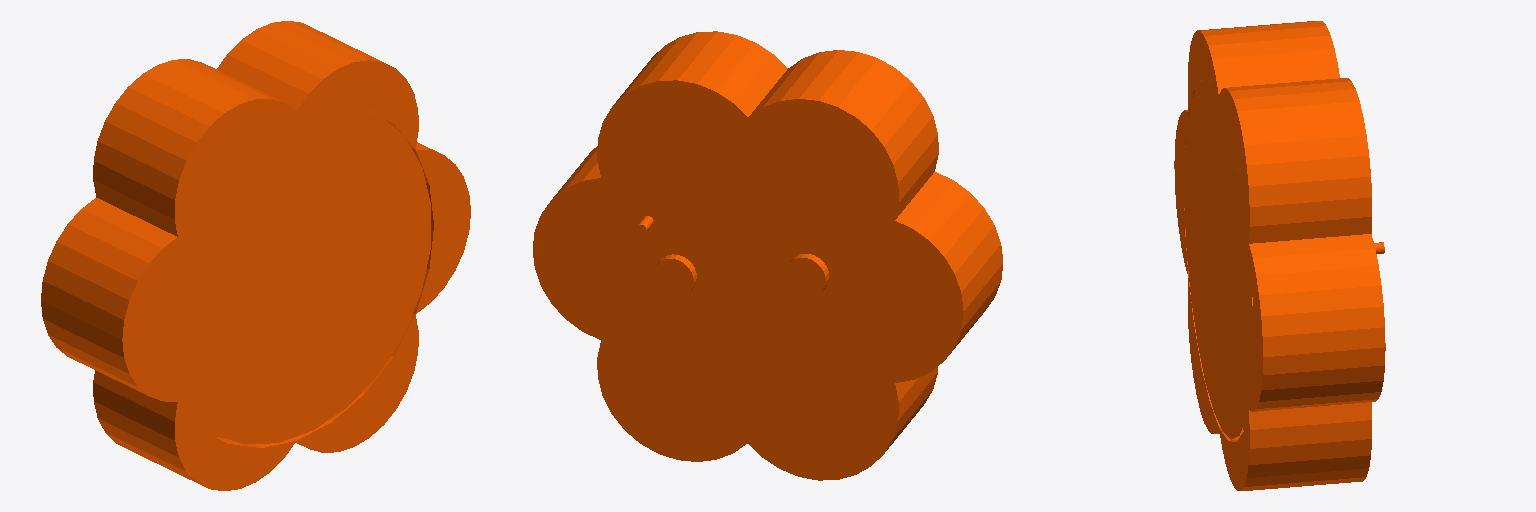
robot.urdf — WallClock_b029b05ae3761f0b582ed853b74eeebb:
<?xml version="1.0" ?>
<robot name="WallClock_b029b05ae3761f0b582ed853b74eeebb">
   <material name="obj_color">
      <color rgba="1.0 0.423529411765 0.0392156862745 1.0"/>
   </material>
   <link name="top">
      <inertial>
         <origin rpy="0.001039898293805974 0.001046716723183738 0.001859925038526667" xyz="-0.0002242387494435688 0.0008431514837960173 0.0004176603218247812"/>
         <mass value="0.7117719335017296"/>
         <inertia ixx="0.001073817160962624" ixy="-0.0001606530438322797" ixz="-1.670691766807089e-06" iyy="0.001827074035963266" iyz="-4.287309405190054e-06" izz="0.00104564885859049"/>
      </inertial>
      <visual>
         <origin rpy="0 0 0" xyz="0 0 0"/>
         <geometry>
            <mesh filename="top_watertight_tiny.stl" scale="1 1 1"/>
         </geometry>
         <material name="obj_color"/>
      </visual>
      <collision>
         <origin rpy="0 0 0" xyz="0 0 0"/>
         <geometry>
            <mesh filename="top_watertight_tiny.obj" scale="1 1 1"/>
         </geometry>
      </collision>
   </link>
   <link name="bottom">
      <inertial>
         <origin rpy="1.633333333199431e-08 1.633333333199431e-08 1.633333333362855e-08" xyz="0.3464080000000008 0.3464080000000008 0.3464080000000008"/>
         <mass value="0.0009800000000000017"/>
         <inertia ixx="1.633333333253906e-08" ixy="5.447480642029219e-19" ixz="5.447480642029219e-19" iyy="1.633333333253906e-08" iyz="5.447480642029219e-19" izz="1.633333333253906e-08"/>
      </inertial>
      <visual>
         <origin rpy="0 0 0" xyz="0 0 0"/>
         <geometry>
            <mesh filename="bottom_watertight_tiny.stl" scale="1 1 1"/>
         </geometry>
         <material name="obj_color"/>
      </visual>
   </link>
   <link name="world"/>
   <joint name="world_to_base" type="fixed">
      <origin xyz="0 0 0"/>
      <axis xyz="0 0 0"/>
      <parent link="world"/>
      <child link="bottom"/>
   </joint>
   <joint name="rotation" type="revolute">
      <origin xyz="0 0 0"/>
      <axis xyz="0 0 -1"/>
      <parent link="bottom"/>
      <child link="top"/>
      <dynamics damping="1.0" friction="1.0"/>
      <limit effort="0.1" velocity="0.1" lower="0" upper="0.001"/>
   </joint>
</robot>

--- What the picture shows (computed from the rendered views, not written in the file) ---
The picture shows the robot from 3 angles, left to right: view 1: azimuth 30°, elevation 25°; view 2: azimuth 150°, elevation 25°; view 3: azimuth 270°, elevation 25°; orthographic projection.
Model WallClock_b029b05ae3761f0b582ed853b74eeebb with 3 links and 2 joints (1 revolute, 1 fixed), rooted at world, posed all joints at 0.
Links seen in each view (by area): view 1: top; view 2: top; view 3: top.
Boxes of the visible links, bbox=[...] form: top: bbox=[41, 21, 470, 490]; top: bbox=[533, 31, 1002, 480]; top: bbox=[1174, 21, 1385, 490].
Bounding box of the posed robot: 0.1575 × 0.0693 × 0.1401 m (x, y, z).
1 mesh visuals loaded from 2 distinct referenced files (1 binary STL); not drawn: 1 (reference not matched to a file when rendering).
